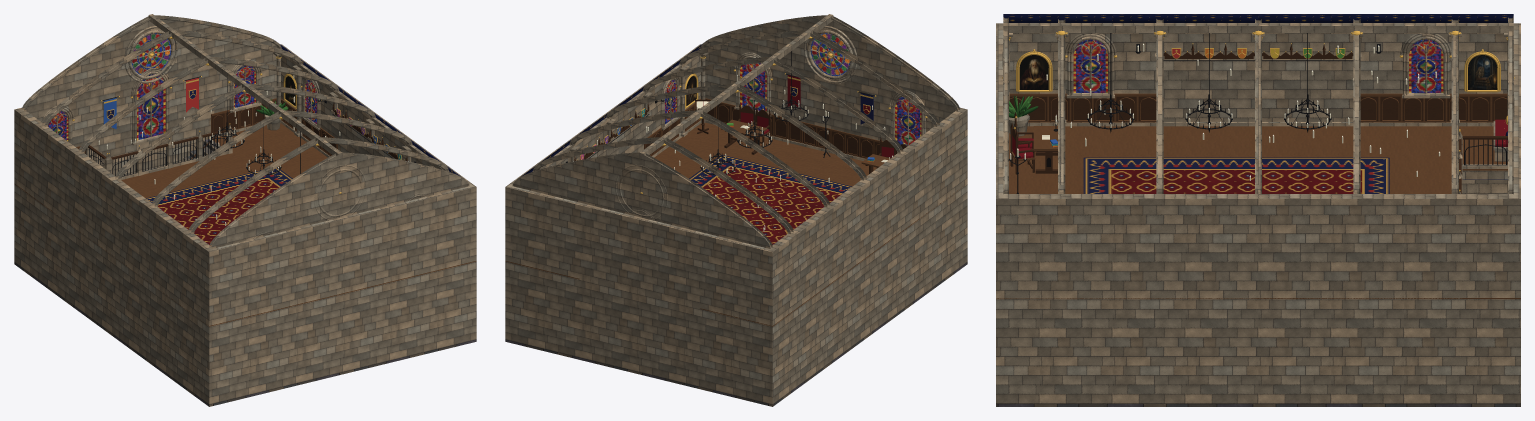
File: Hall.glb
3 renders of one model, left to right at view 1: azimuth 30°, elevation 25°; view 2: azimuth 150°, elevation 25°; view 3: azimuth 270°, elevation 25°, orthographic. The views are drawn at different scales.
Parts seen in each view (by area): view 1: Hall, Vault, Floor2, Windows, Decor_Rugs, Decor_Walls, Balustrade, Decor_Lights, Ceiling2, Decor_Shelves; view 2: Hall, Vault, Floor2, Windows, Decor_Rugs, Decor_Walls, Decor_Upper, Decor_Lights, Decor_Shelves, Ceiling2; view 3: Hall, Floor2, Vault, Decor_Rugs, Decor_Walls, Windows, Decor_Upper, Decor_Lights, Ceiling2, Decor_Shelves, Balustrade.
Part boxes in pixels (x1,y1,x2,y2): Hall: [14, 15, 476, 406]; Vault: [22, 14, 469, 248]; Floor2: [14, 123, 476, 333]; Windows: [41, 26, 436, 239]; Decor_Rugs: [146, 167, 292, 244]; Decor_Walls: [76, 73, 337, 156]; Balustrade: [85, 123, 232, 179]; Decor_Lights: [98, 75, 416, 225]; Ceiling2: [98, 120, 329, 165]; Decor_Shelves: [332, 103, 407, 161]; Hall: [505, 15, 967, 406]; Vault: [513, 14, 959, 248]; Floor2: [505, 122, 967, 333]; Windows: [545, 26, 927, 220]; Decor_Rugs: [689, 155, 851, 244]; Decor_Walls: [644, 73, 896, 158]; Decor_Upper: [695, 99, 907, 173]; Decor_Lights: [565, 51, 885, 231]; Decor_Shelves: [574, 103, 649, 161]; Ceiling2: [652, 120, 865, 160]; Hall: [996, 14, 1520, 406]; Floor2: [996, 126, 1520, 307]; Vault: [1003, 17, 1513, 195]; Decor_Rugs: [1083, 157, 1389, 193]; Decor_Walls: [1009, 49, 1507, 122]; Windows: [1002, 33, 1514, 191]; Decor_Upper: [1009, 95, 1507, 193]; Decor_Lights: [1046, 33, 1440, 180]; Ceiling2: [1027, 122, 1507, 179]; Decor_Shelves: [1163, 43, 1353, 60]; Balustrade: [1459, 129, 1507, 193].
Bounding box in the file's own units: 11.4 × 8.92 × 14.4.
Materials: 13 (10 with a texture image).
